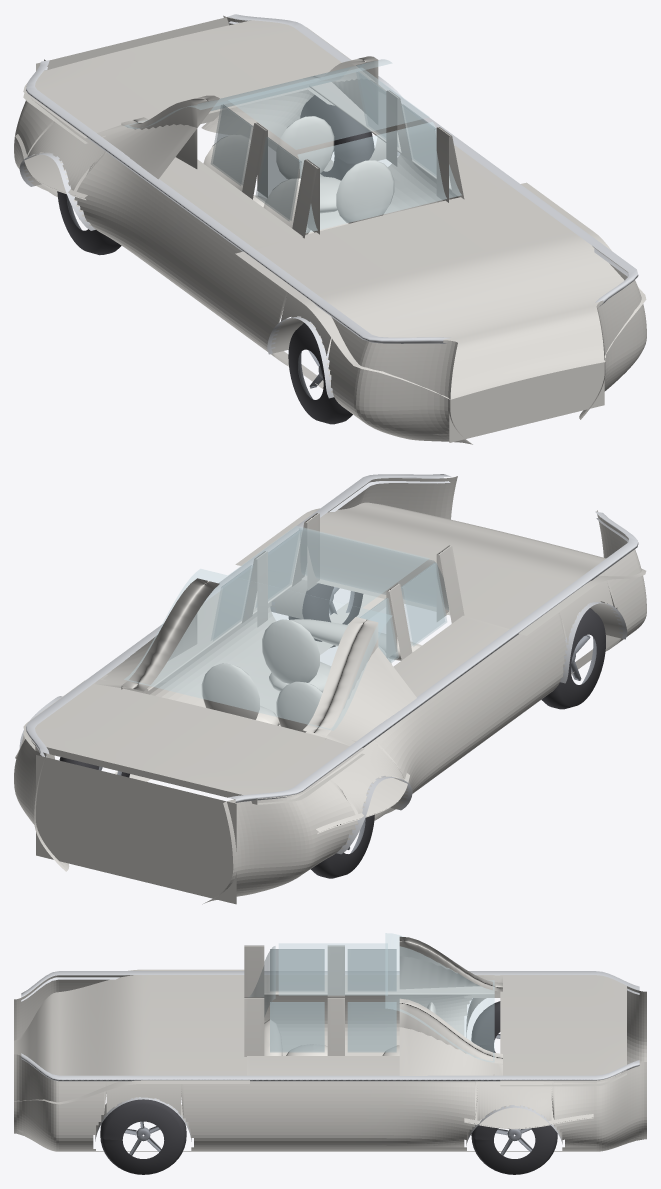
The model's file is ev-sedan-haunch.glb.
3 views of the same model, one above another, from view 1: azimuth 30°, elevation 25°; view 2: azimuth 150°, elevation 25°; view 3: azimuth 270°, elevation 25° (orthographic). The views are drawn at different scales.
Parts seen in each view (by area): view 1: BodyHood, BodySide_L, BodyDeck, Windshield, RoofGlass, BodySide_R, BodyNose, BodyBeltShelf_L, BodyCPillar_L, BodyBeltLip_L, BodyBeltShelf_R, BodyBeltLip_R (+24 smaller); view 2: BodySide_L, BodyHood, BodyDeck, RearWindow, BodyFascia, RoofGlass, BodySide_R, BodyCPillar_L, Windshield, BodyBeltLip_L, BodyCPillar_R, BodyBeltShelf_L (+23 smaller); view 3: BodySide_R, BodyHood, BodyDeck, BodySide_L, RearWindow, RoofGlass, BodyCPillar_R, BodyBeltLip_R, WheelFRTire, BodyCPillar_L, BodyBeltShelf_R, BodyBeltShelf_L (+15 smaller).
Part boxes in pixels (x1,y1,x2,y2): BodyHood: (235, 182, 646, 399); BodySide_L: (14, 59, 472, 444); BodyDeck: (23, 20, 351, 143); Windshield: (297, 122, 461, 232); RoofGlass: (228, 68, 429, 149); BodySide_R: (201, 15, 646, 419); BodyNose: (449, 362, 604, 442); BodyBeltShelf_L: (102, 135, 302, 249); BodyCPillar_L: (97, 95, 219, 179); BodyBeltLip_L: (26, 60, 450, 343); BodyBeltShelf_R: (309, 81, 511, 196); BodyBeltLip_R: (227, 14, 638, 306); BodySide_L: (202, 510, 646, 904); BodyHood: (235, 502, 646, 635); BodyDeck: (23, 680, 364, 804); RearWindow: (124, 569, 392, 730); BodyFascia: (36, 755, 236, 904); RoofGlass: (228, 526, 429, 607); BodySide_R: (14, 476, 457, 871); BodyCPillar_L: (303, 617, 416, 745); Windshield: (299, 528, 448, 610); BodyBeltLip_L: (227, 511, 638, 803); BodyCPillar_R: (95, 578, 219, 691); BodyBeltShelf_L: (352, 615, 509, 741); BodySide_R: (14, 1054, 646, 1151); BodyHood: (14, 969, 249, 1104); BodyDeck: (500, 975, 626, 1086); BodySide_L: (14, 975, 646, 1064); RearWindow: (385, 933, 494, 1062); RoofGlass: (279, 943, 387, 995); BodyCPillar_R: (399, 998, 502, 1075); BodyBeltLip_R: (21, 1053, 639, 1081); WheelFRTire: (100, 1099, 186, 1174); BodyCPillar_L: (399, 936, 502, 991); BodyBeltShelf_R: (247, 1056, 494, 1075); BodyBeltShelf_L: (264, 975, 494, 994).
Size of the model in its own units: 2.32 by 1.2 by 4.4.
